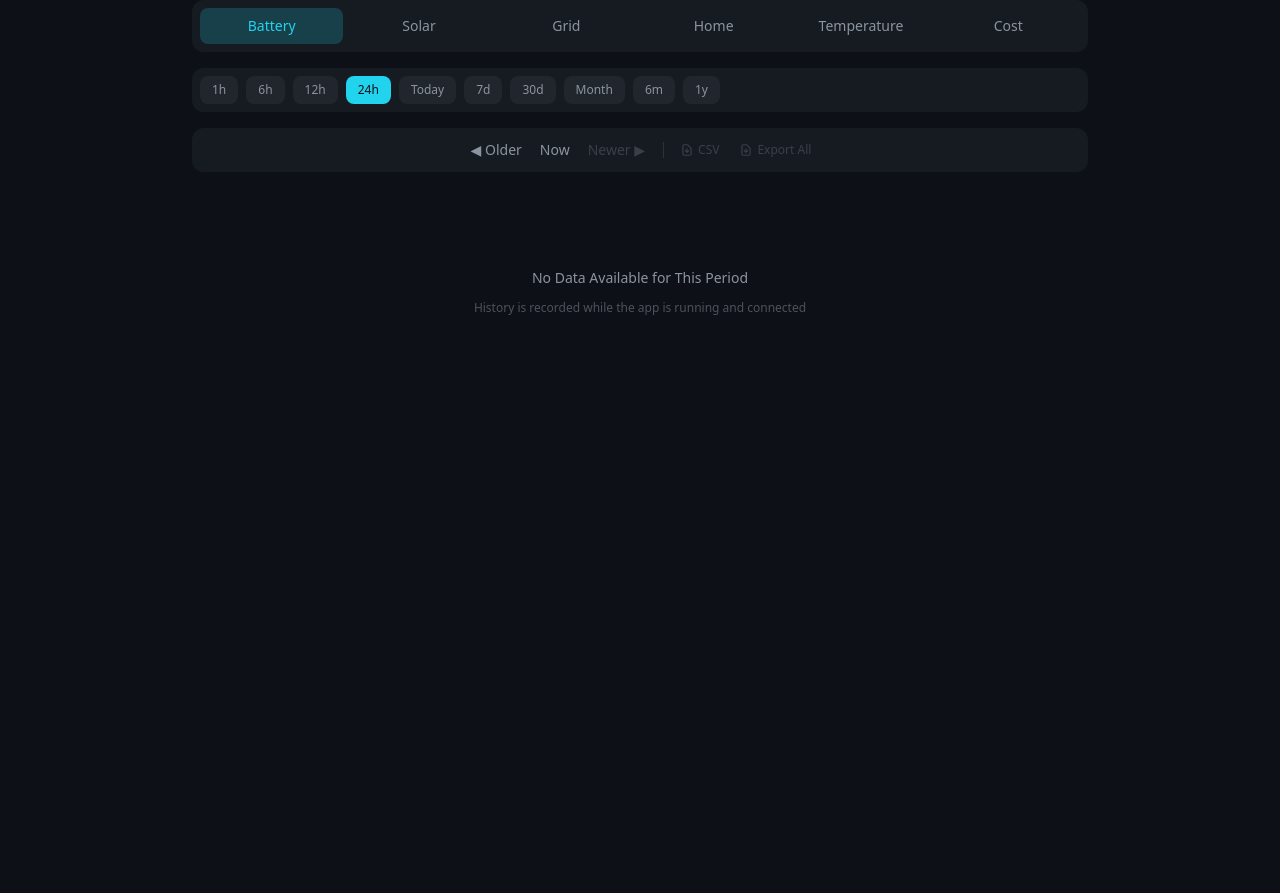
Test case: <HistoryPage/> — period totals, cost breakdown, window labels › period totals — per-tab additive values › shows Generated total on the Solar tab
The image size is (1280, 893).
Click the button "Solar".
click(419, 26)  # box [347,8,491,44]
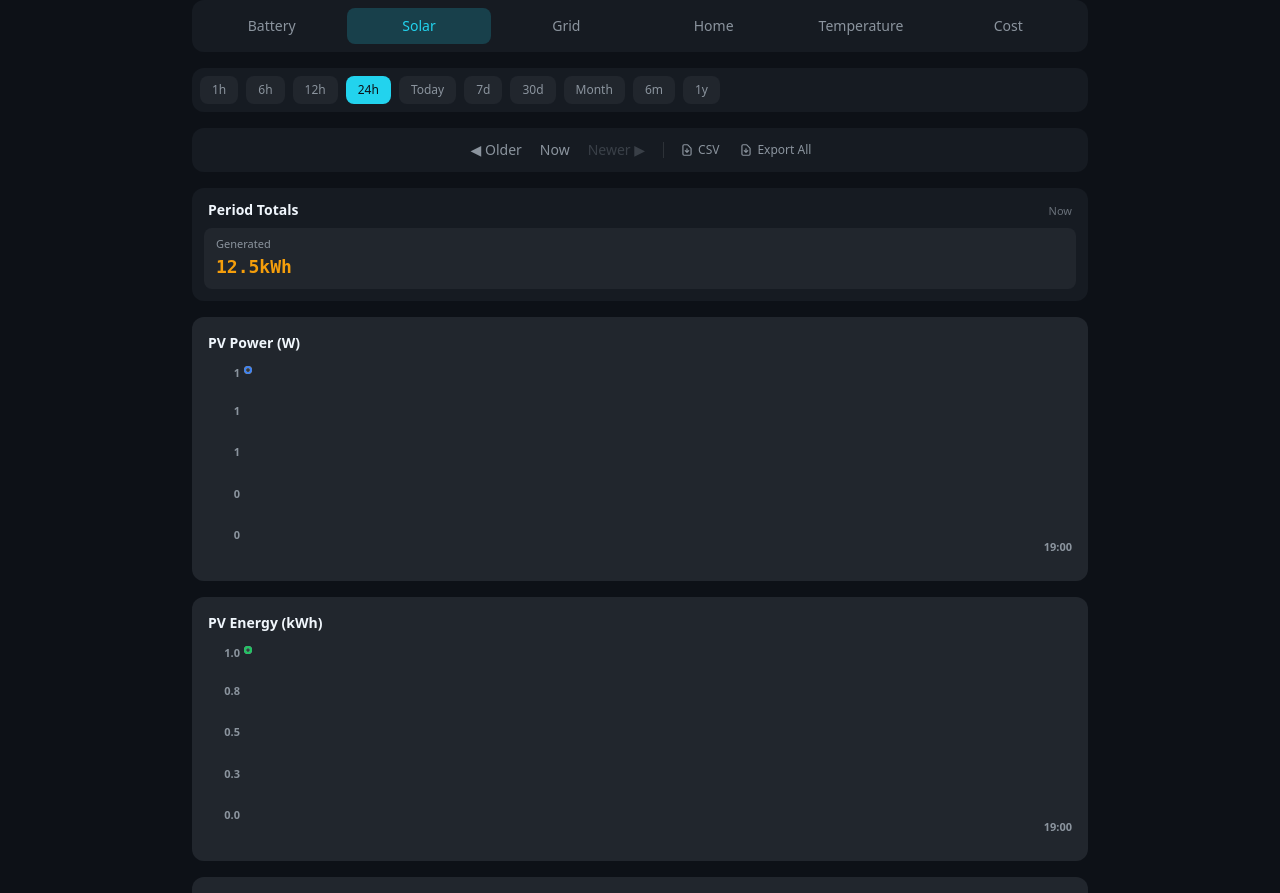
Now the text "Generated" is shown, box [216,236,271,251]
Now the text "12.5kWh" is shown, box [216,256,292,276]
